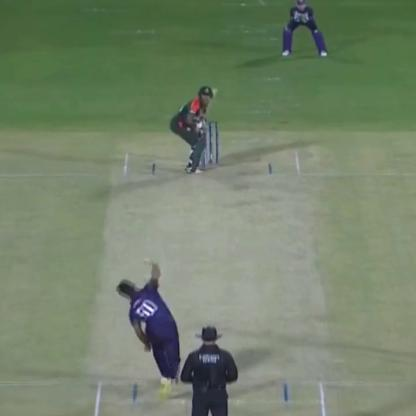bat: (192, 70, 219, 122)
pitch: (92, 154, 327, 416)
